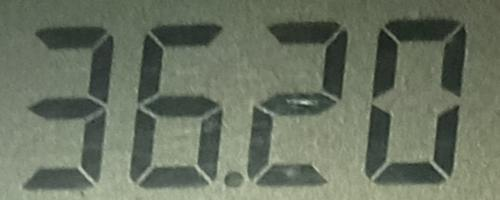.: (222, 168, 245, 191)
